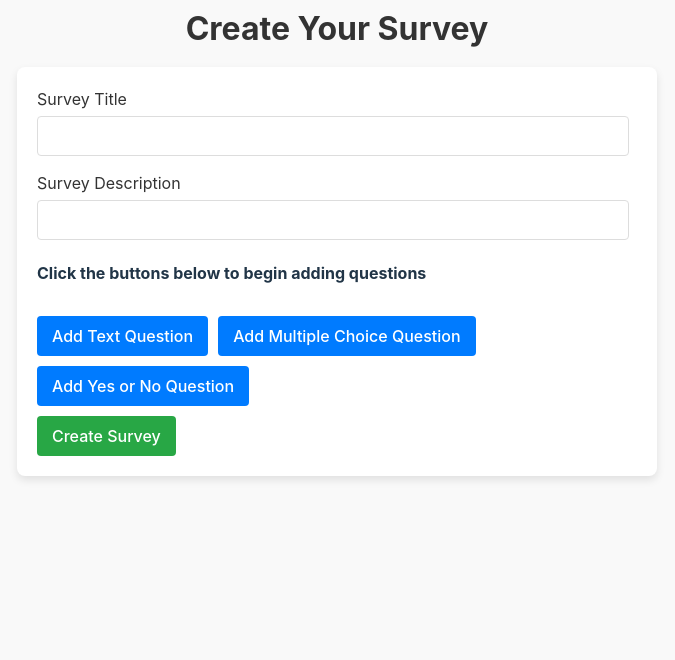
Test: NewSurveyForm component › adds a new YES OR NO question
The width and height of the screenshot is (675, 660).
Click the button "Add Yes or No Question" at (143, 386), box [37,366,249,406]
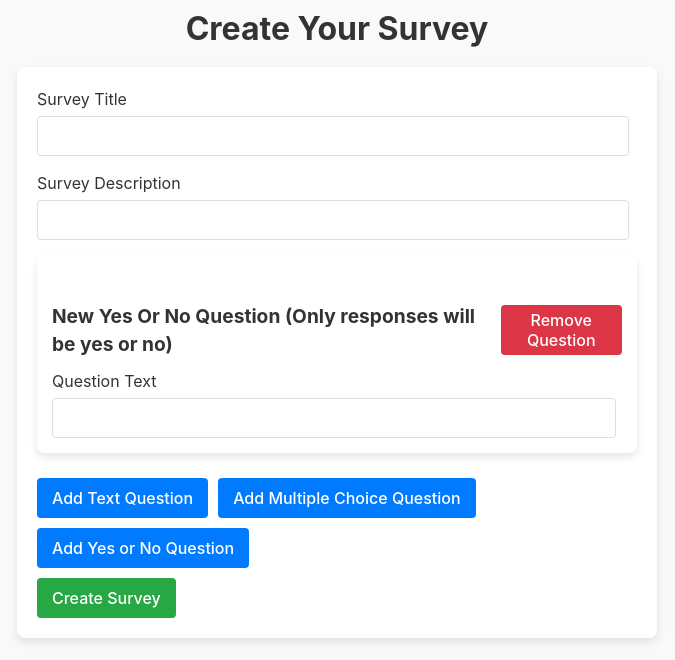
Expected: the heading "New Yes Or No Question (Only responses will be yes or no)" is shown, [52,304,475,356]
Expected: the button "Remove Question" is shown, [500,306,622,356]
